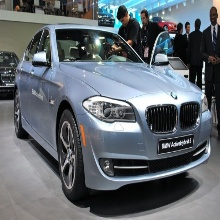no damage: (13, 24, 213, 202), (1, 51, 21, 93)
